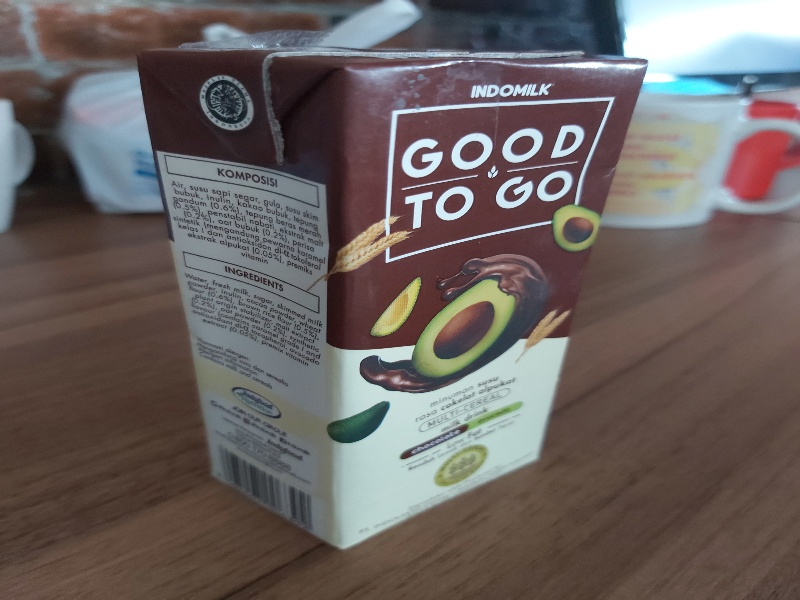cokelat: (122, 42, 649, 553)
